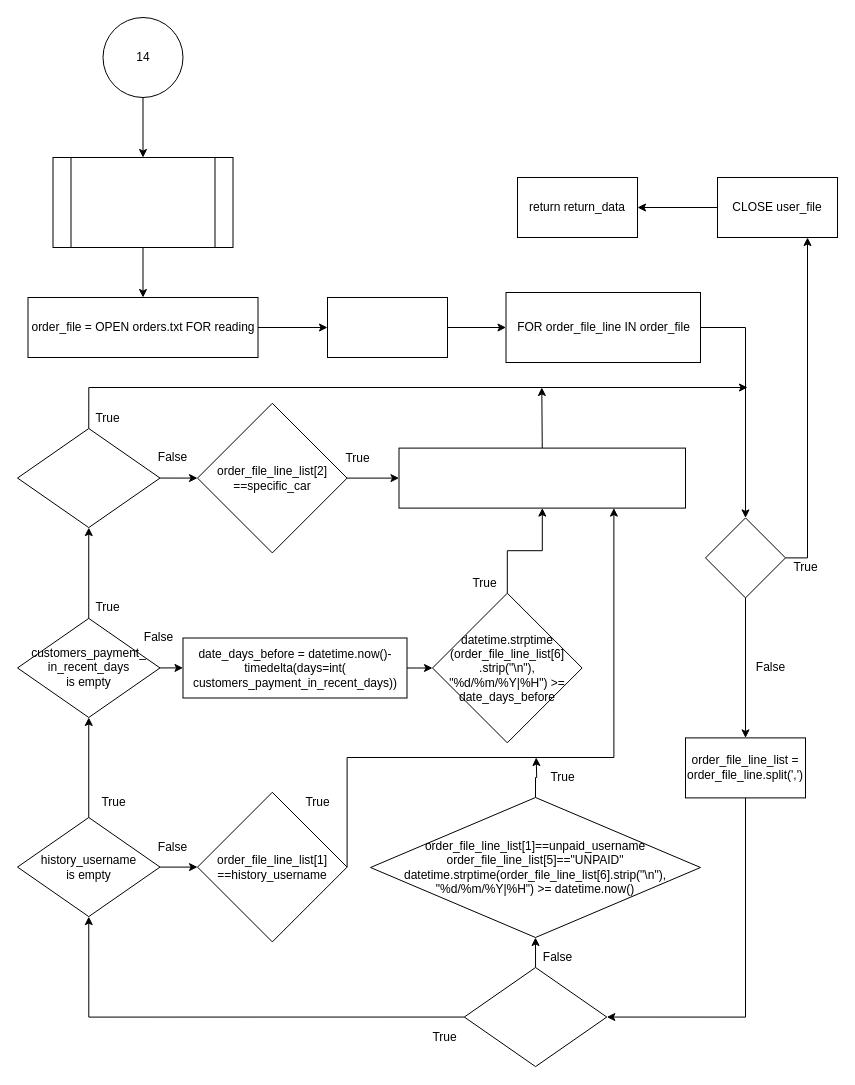
The diagram is 855 pixels wide and 1085 high, and some of its shapes have lost their labels. Here are the shapes that lost their labels. From the top down, the centre of each, then its label:
(x=142, y=202): DEFINE FUNCTION file_handling .get_orders()
(x=387, y=327): order_file_lines = []
(x=88, y=478): specific_car is empty
(x=542, y=477): order_file_lines.append(",".join(order_file_line_list))
(x=745, y=557): Last line reached?
(x=535, y=1016): unpaid_username is empty
